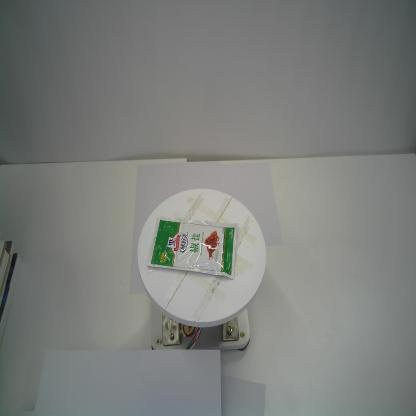Seasoner: (146, 217, 239, 281)
